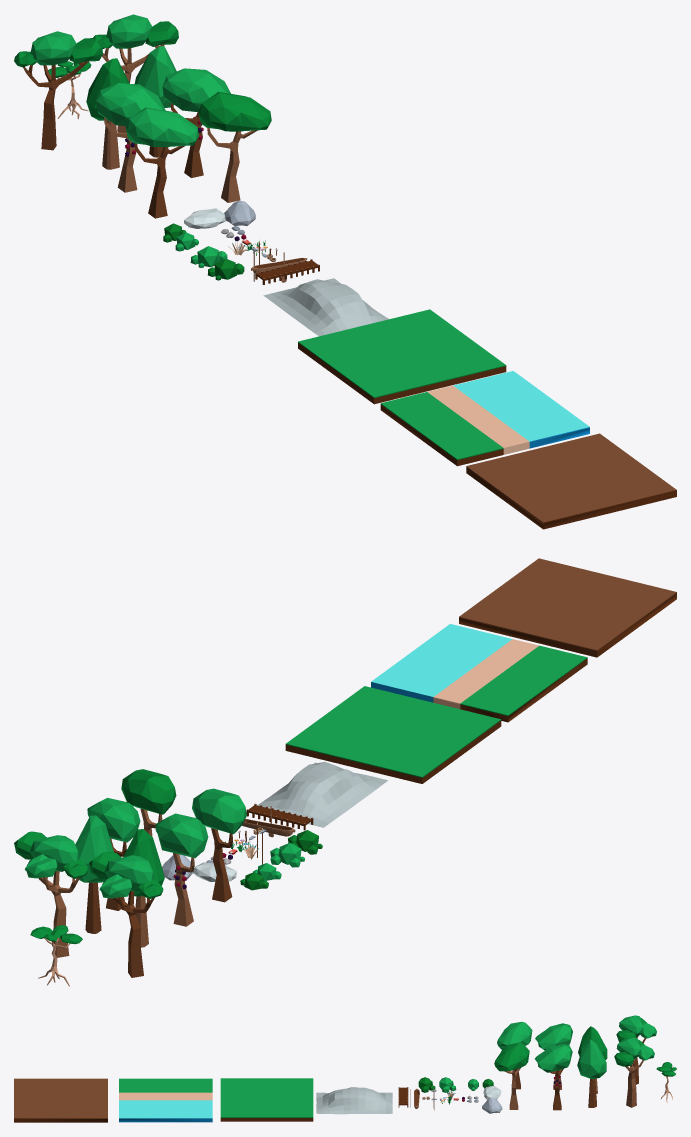
Rendered from Low-Poly_FBX_Kit_Sambaquis_ARISE.fbx.
The picture shows the model from 3 angles, top to bottom: view 1: azimuth 30°, elevation 25°; view 2: azimuth 150°, elevation 25°; view 3: azimuth 270°, elevation 25°; orthographic projection. The views are drawn at different scales.
Parts seen in each view (by area): view 1: Mangue, Litoral, Solo_Gramado, Sambaqui, Arvore_Tres_Escura, Arvore_Um_Escura, Arvore_Um_Clara, Jabuticabeira_Clara, Jabuticabeira_Escura, Arvore_Tres_Clara, Arvore_Dois_Clara, Arvore_Dois_Escura; view 2: Mangue, Solo_Gramado, Litoral, Sambaqui, Arvore_Tres_Escura, Arvore_Tres_Clara, Arvore_Um_Escura, Jabuticabeira_Clara, Arvore_Um_Clara, Arvore_Dois_Escura, Jabuticabeira_Escura, Arvore_Dois_Clara (+2 smaller); view 3: Mangue, Litoral, Solo_Gramado, Sambaqui, Arvore_Tres_Clara, Jabuticabeira_Escura, Arvore_Dois_Escura, Arvore_Um_Clara, Arvore_Tres_Escura, Arvore_Um_Escura, Jabuticabeira_Clara, Arvore_Dois_Clara (+6 smaller).
Part boxes in pixels (bbox=[...]): Mangue: bbox=[466, 433, 676, 529]; Litoral: bbox=[380, 371, 589, 466]; Solo_Gramado: bbox=[298, 309, 506, 404]; Sambaqui: bbox=[263, 278, 388, 336]; Arvore_Tres_Escura: bbox=[14, 31, 102, 150]; Arvore_Um_Escura: bbox=[125, 107, 198, 218]; Arvore_Um_Clara: bbox=[198, 91, 271, 202]; Jabuticabeira_Clara: bbox=[96, 83, 165, 192]; Jabuticabeira_Escura: bbox=[162, 68, 230, 177]; Arvore_Tres_Clara: bbox=[93, 14, 178, 132]; Arvore_Dois_Clara: bbox=[86, 58, 129, 169]; Arvore_Dois_Escura: bbox=[134, 46, 176, 157]; Mangue: bbox=[459, 558, 676, 657]; Solo_Gramado: bbox=[285, 686, 501, 783]; Litoral: bbox=[371, 624, 587, 722]; Sambaqui: bbox=[257, 762, 387, 827]; Arvore_Tres_Escura: bbox=[89, 852, 163, 977]; Arvore_Tres_Clara: bbox=[14, 831, 88, 957]; Arvore_Um_Escura: bbox=[192, 788, 246, 902]; Jabuticabeira_Clara: bbox=[155, 813, 208, 926]; Arvore_Um_Clara: bbox=[121, 769, 176, 836]; Arvore_Dois_Escura: bbox=[75, 815, 113, 933]; Jabuticabeira_Escura: bbox=[87, 798, 140, 910]; Arvore_Dois_Clara: bbox=[123, 829, 164, 947]; Mangue: bbox=[14, 1078, 107, 1122]; Litoral: bbox=[119, 1078, 212, 1122]; Solo_Gramado: bbox=[220, 1078, 313, 1121]; Sambaqui: bbox=[316, 1087, 392, 1114]; Arvore_Tres_Clara: bbox=[614, 1037, 654, 1107]; Jabuticabeira_Escura: bbox=[535, 1043, 572, 1110]; Arvore_Dois_Escura: bbox=[577, 1039, 606, 1107]; Arvore_Um_Clara: bbox=[494, 1042, 529, 1109]; Arvore_Tres_Escura: bbox=[616, 1015, 656, 1084]; Arvore_Um_Escura: bbox=[497, 1021, 532, 1089]; Jabuticabeira_Clara: bbox=[535, 1023, 572, 1089]; Arvore_Dois_Clara: bbox=[578, 1026, 607, 1093].
Bounding box in the file's own units: 1371 × 1175 × 8563.
43 materials, 43 textured.
